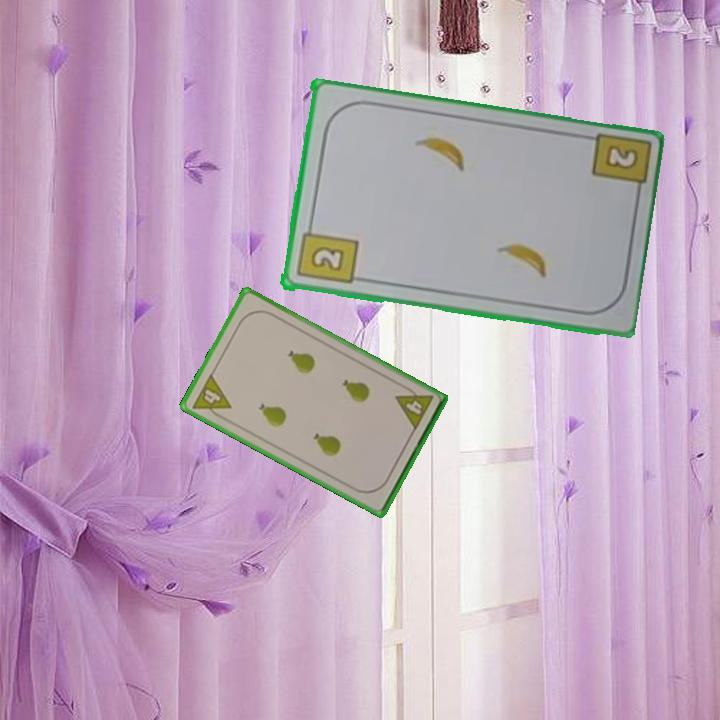2b: (293, 220, 360, 288), (600, 142, 638, 172)
4p: (188, 370, 234, 423), (392, 381, 436, 433)
